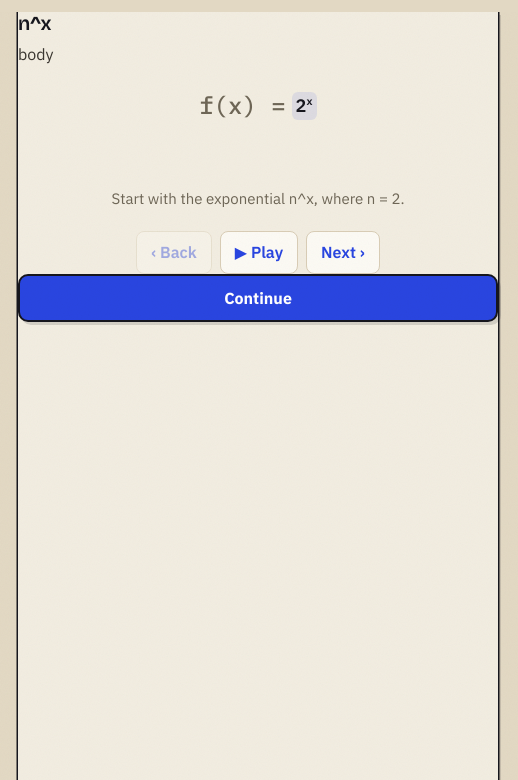
NPowerXAnimationSlide — first step is immediate, replay resets › shows step 1 the instant Play is pressed, with no timer advance
Click the button "▶ Play".
click(259, 253)  # box left=220, top=231, right=298, bottom=274
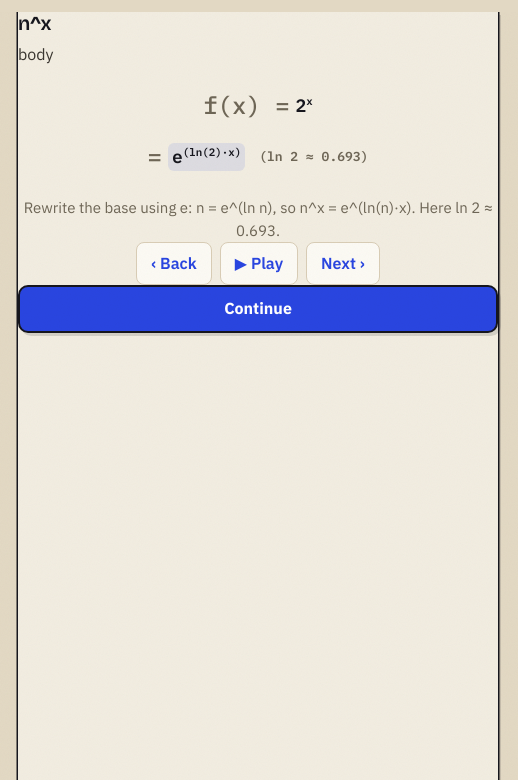
Check: the text "(ln 2 ≈ 0.693)" is shown, box left=259, top=147, right=368, bottom=167
